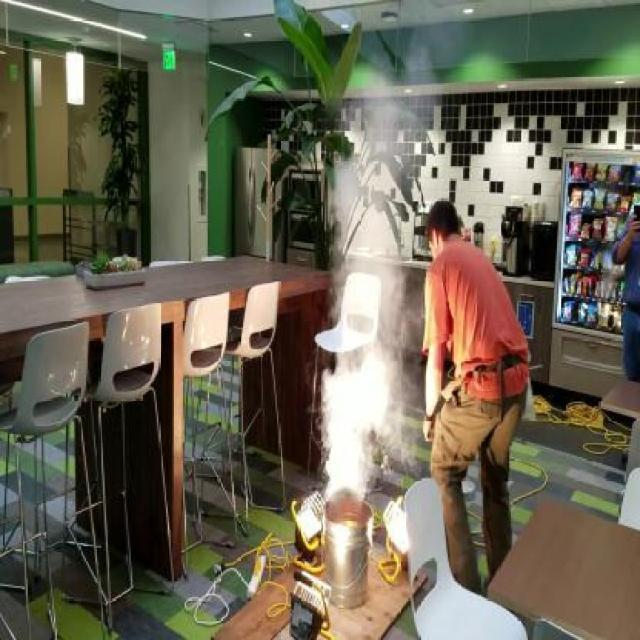fire: (313, 154, 402, 493)
